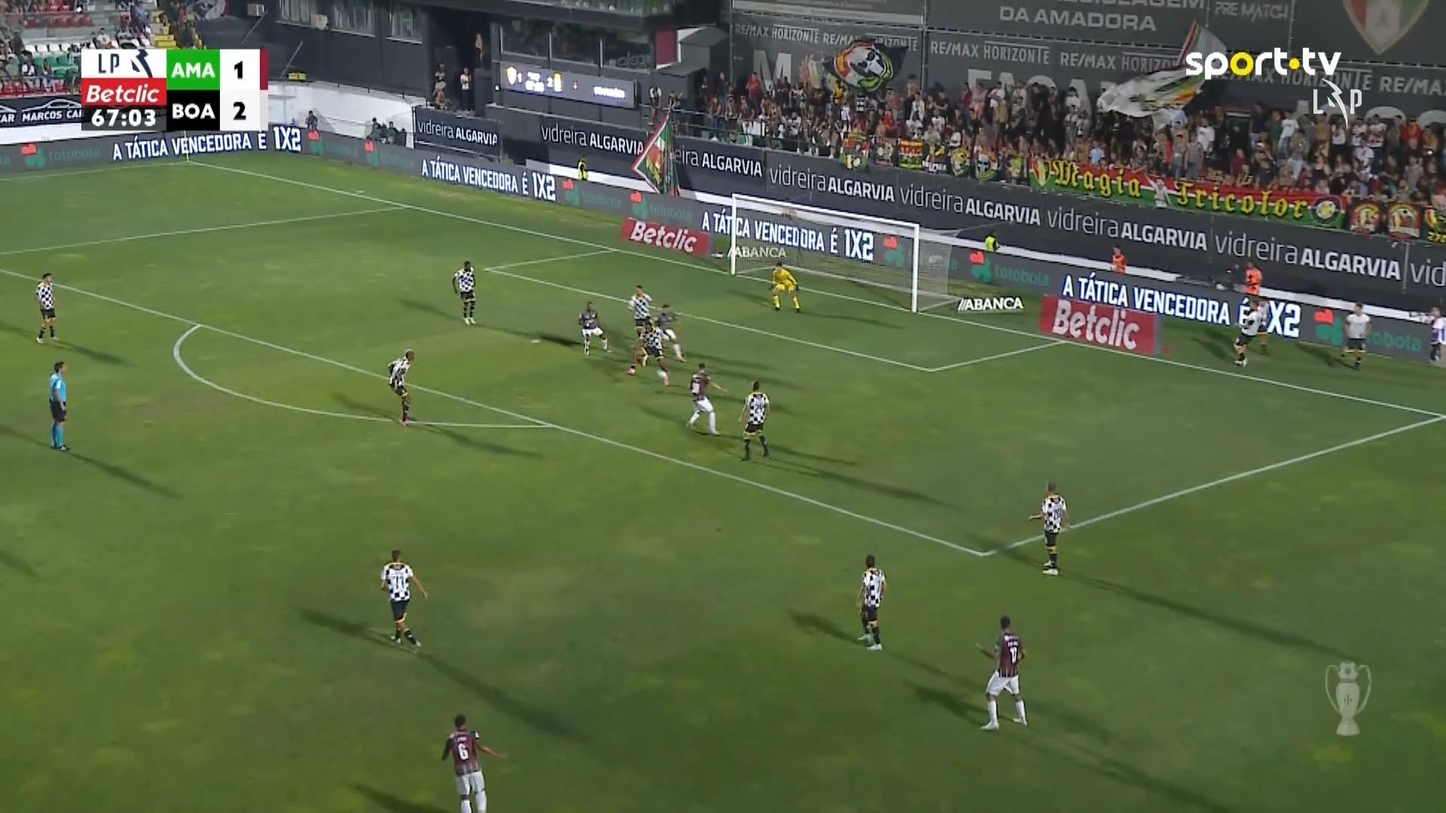goalkeeper: (767, 258, 801, 312)
player: (440, 713, 506, 811), (975, 615, 1028, 730), (379, 548, 428, 648), (1027, 481, 1069, 574), (856, 553, 886, 651), (685, 362, 725, 435), (626, 320, 670, 386), (737, 379, 770, 460), (386, 349, 414, 426), (654, 302, 685, 363), (577, 300, 610, 355), (33, 271, 58, 343), (451, 259, 477, 325), (627, 283, 653, 340)
referee: (47, 360, 69, 450)
